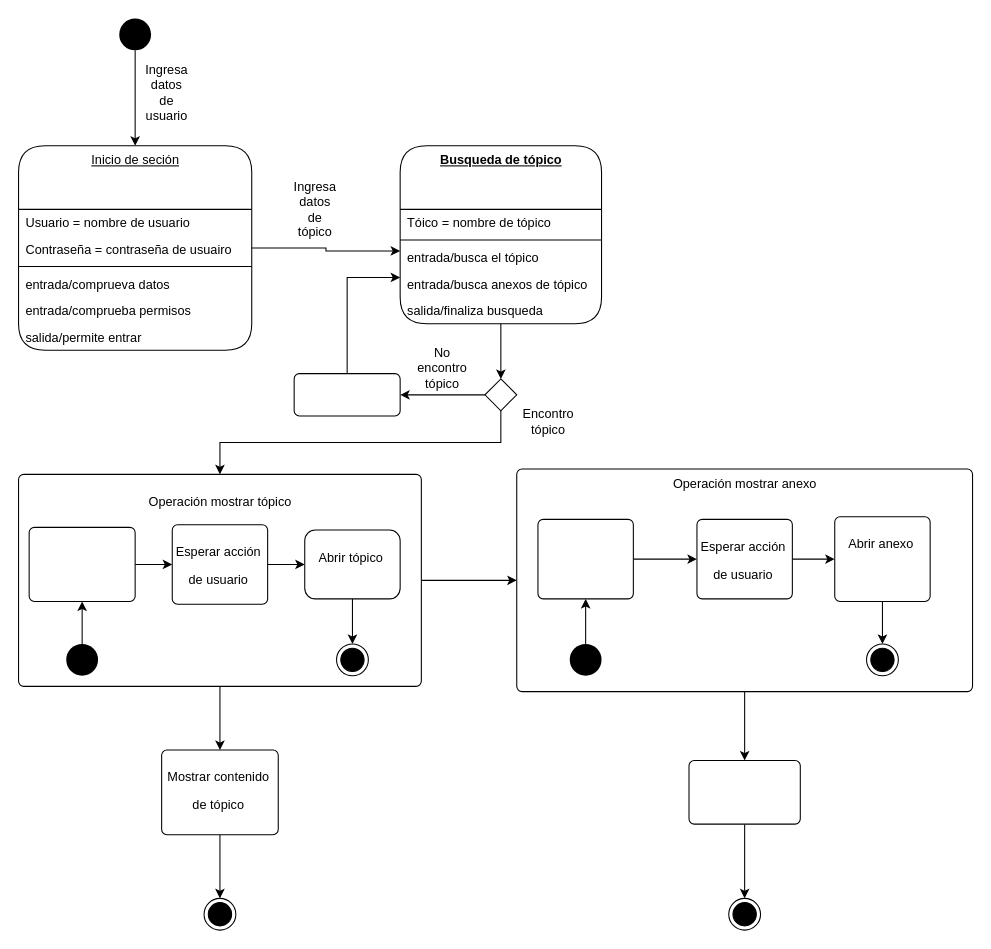
This 991x949 diagram has some shape labels left out. The centre of each missing label's shape, as x and y in pixels:
Buscar tópico relacionado: the point at 346,394
Mostrar anexos relacionados: the point at 585,558
Mostrar contenido de anexo: the point at 744,791
Se muestra tópico en pantalla: the point at 81,564
